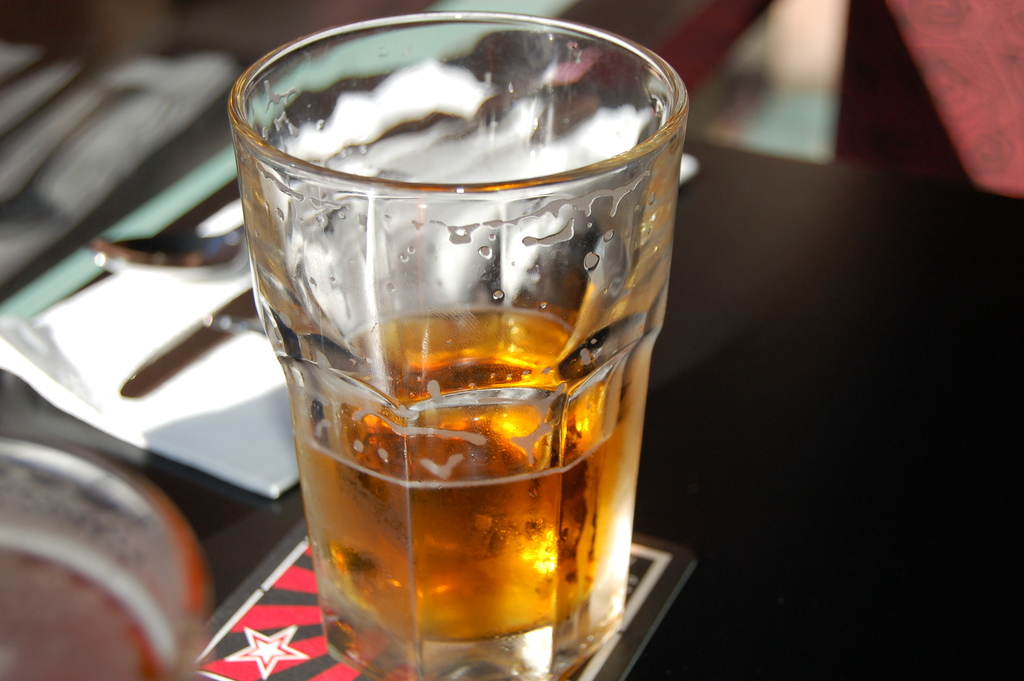Beer: (227, 10, 689, 680)
